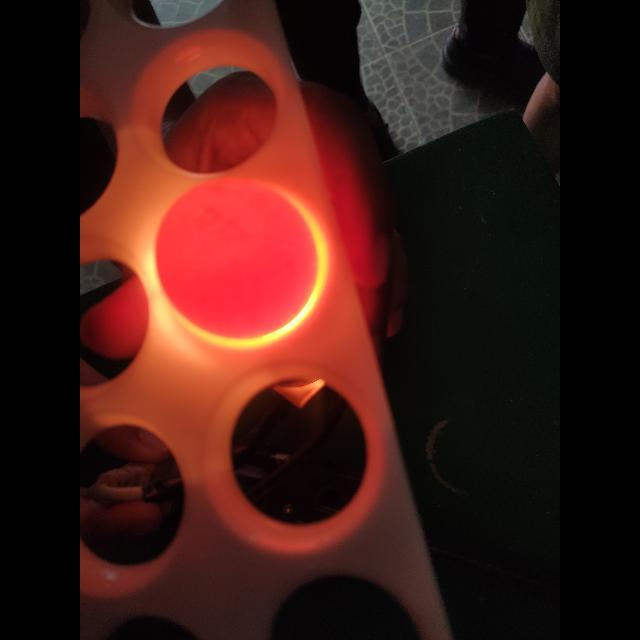Infertile: (157, 180, 320, 336)
